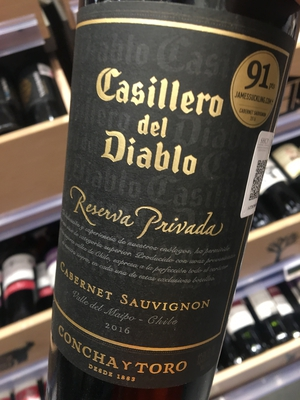casillero del diablo reserva privada cabernet sauvignon: (42, 8, 298, 400)
